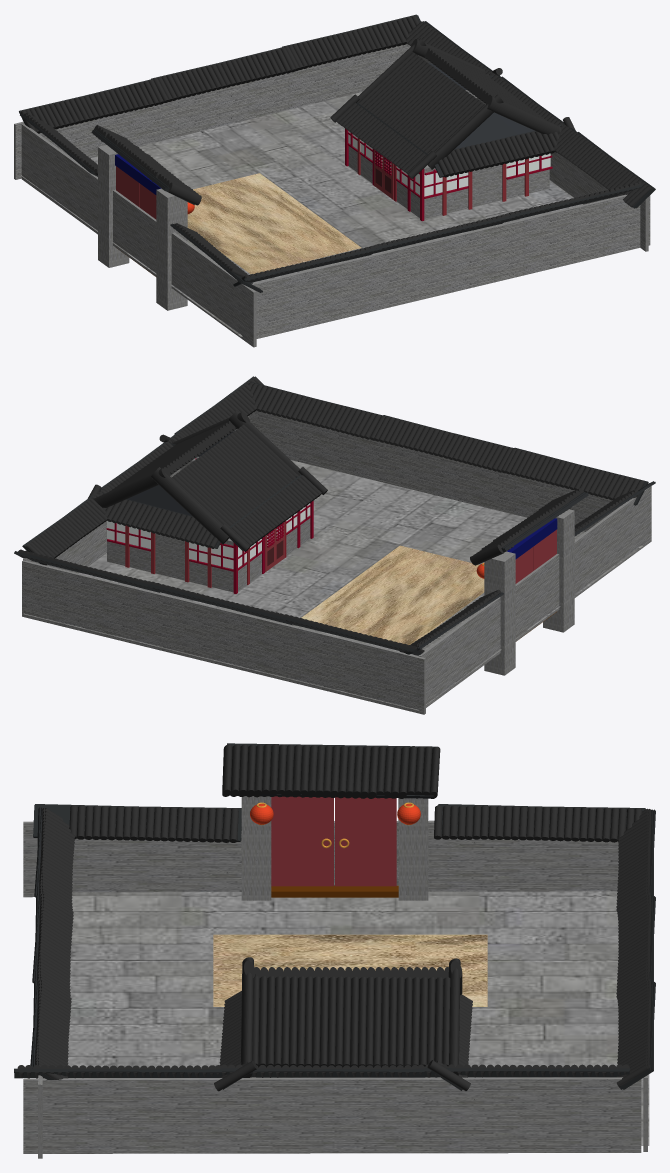
File: house2.fbx
3 renders of one model, top to bottom at view 1: azimuth 30°, elevation 25°; view 2: azimuth 150°, elevation 25°; view 3: azimuth 270°, elevation 25°, orthographic. The views are drawn at different scales.
Visible parts, largest first — view 1: Cube.018, Plane, Cube.025, Cube.118, Plane.001, Cube.015, Cube.119, Cube.120, Cube.038, Cone.001, Cylinder.622, Cube.014 (+4 smaller); view 2: Cube.025, Plane, Cube.018, Cube.118, Plane.001, Cube, Cube.120, Cube.119, Cube.038, Cylinder.570, Cube.014, Cylinder.623 (+4 smaller); view 3: Plane, Cube.038, Cube.118, Plane.001, Cube.116, Cube.117, Cube.119, Cube.120, Cube.124, Cylinder.622, Cylinder.623, Cube.035 (+32 smaller).
Boxes of the visible parts, x1,y1,x2,y2 form: Cube.018: (251,194,650,338); Plane: (21,92,582,336); Cube.025: (14,44,410,179); Cube.118: (21,123,256,347); Plane.001: (187,173,361,274); Cube.015: (424,164,549,218); Cube.119: (156,188,187,310); Cube.120: (98,145,129,267); Cube.038: (418,55,648,251); Cone.001: (454,112,534,149); Cylinder.622: (486,95,561,135); Cube.014: (348,143,424,219); Cube.025: (22,560,425,714); Plane: (24,460,642,710); Cube.018: (249,410,620,531); Cube.118: (418,486,651,707); Plane.001: (301,545,484,644); Cube: (107,533,233,592); Cube.120: (484,551,515,675); Cube.119: (543,509,574,632); Cube.038: (23,416,249,573); Cylinder.570: (151,467,228,544); Cube.014: (238,515,310,590); Cylinder.623: (93,468,169,507); Plane: (67,891,649,1145); Cube.038: (23,1077,641,1153); Cube.118: (23,820,618,897); Plane.001: (213,934,487,1006); Cube.116: (271,796,333,886); Cube.117: (335,797,396,886); Cube.119: (241,796,271,900); Cube.120: (398,798,428,900); Cube.124: (271,885,398,897); Cylinder.622: (240,957,253,1077); Cylinder.623: (448,958,460,1075); Cube.035: (221,1068,425,1077).
Bounding box in the file's own units: 8392 × 8362 × 2564.
Materials: 941 (12 with a texture image).
